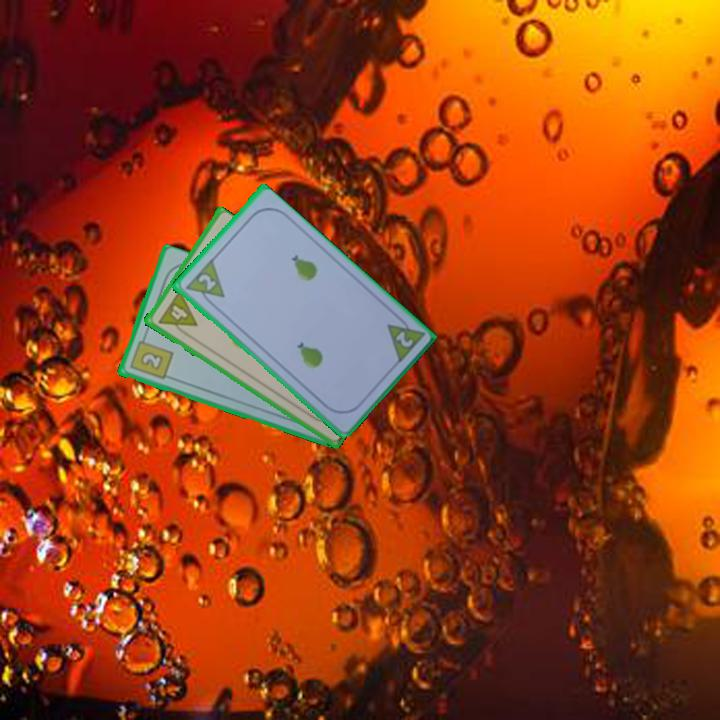2b: (126, 332, 175, 382)
2p: (383, 310, 427, 367), (194, 270, 219, 294)
4p: (154, 288, 199, 340)
